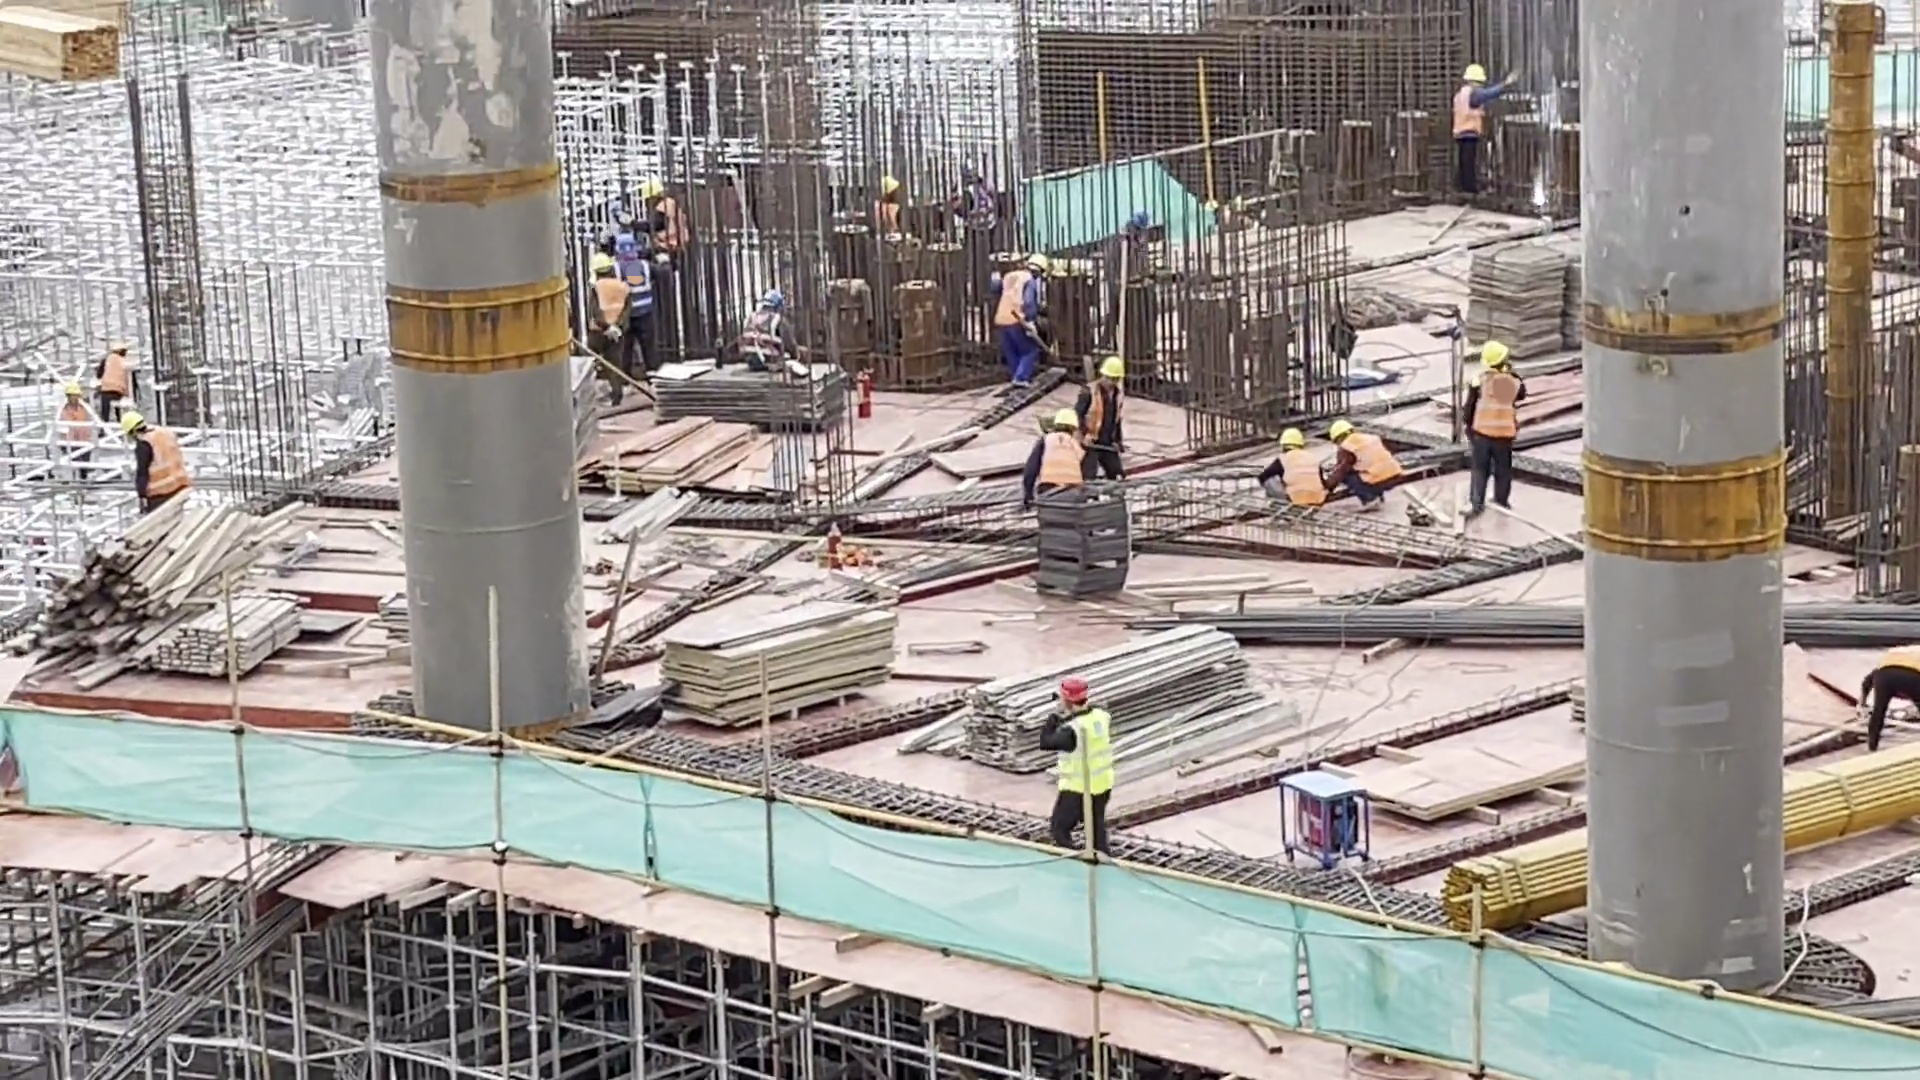board: (662, 592, 898, 730), (604, 414, 766, 497)
helmet: (1096, 353, 1126, 383), (1061, 676, 1093, 703), (1481, 337, 1507, 367), (1053, 405, 1081, 430), (1327, 418, 1352, 443), (118, 412, 143, 436), (615, 233, 638, 257), (1280, 428, 1306, 450), (1463, 66, 1489, 83), (592, 252, 613, 270), (1029, 252, 1047, 271)
person: (1035, 676, 1117, 863), (1458, 337, 1524, 519), (1449, 65, 1513, 194), (993, 250, 1049, 385), (582, 250, 626, 412), (118, 412, 186, 505), (1326, 417, 1400, 503), (1855, 645, 1920, 743), (609, 226, 651, 366), (1257, 425, 1320, 516), (1084, 357, 1126, 481), (737, 285, 795, 363), (1028, 406, 1080, 492), (55, 385, 91, 476), (93, 346, 133, 406), (649, 174, 686, 239)
vest: (1058, 705, 1117, 799), (1471, 370, 1525, 437), (139, 426, 185, 497), (1338, 435, 1401, 486), (1279, 448, 1328, 508), (1038, 430, 1088, 485), (992, 271, 1030, 326), (1452, 84, 1482, 139)
wood: (31, 491, 248, 694), (152, 591, 305, 678)
